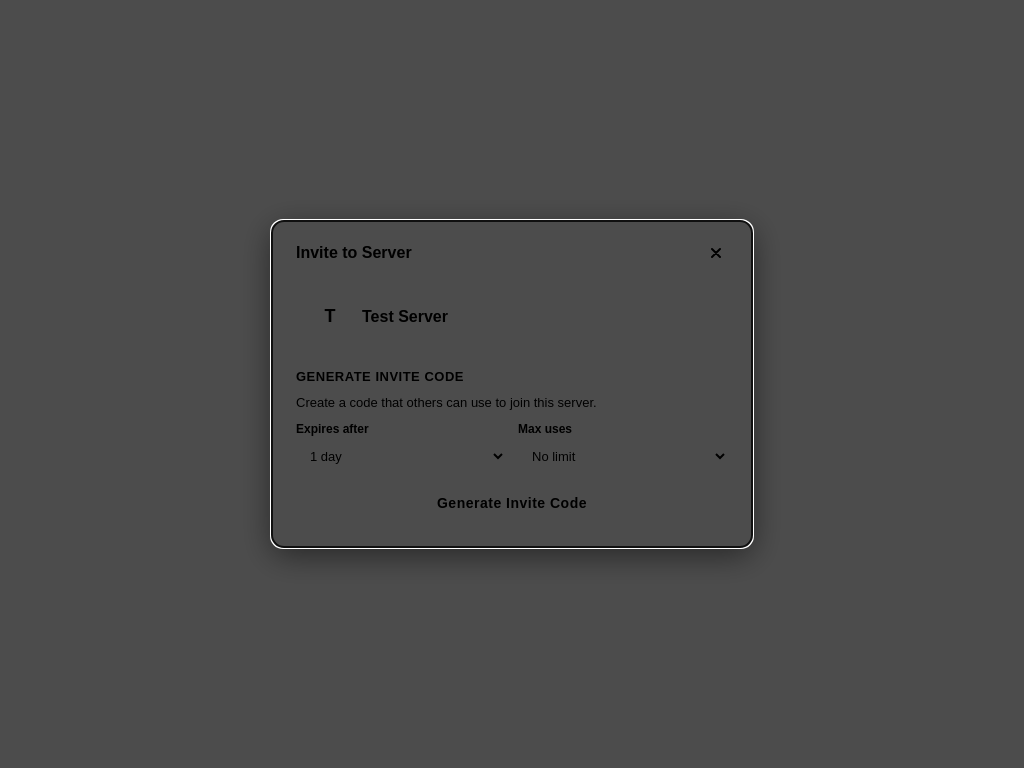
Test: InviteToServerModal › shows "Copied!" after auto-copy
This screenshot has width=1024, height=768.
Click the button with class "invite-generate-btn": (512, 503) [296,483,728,523]
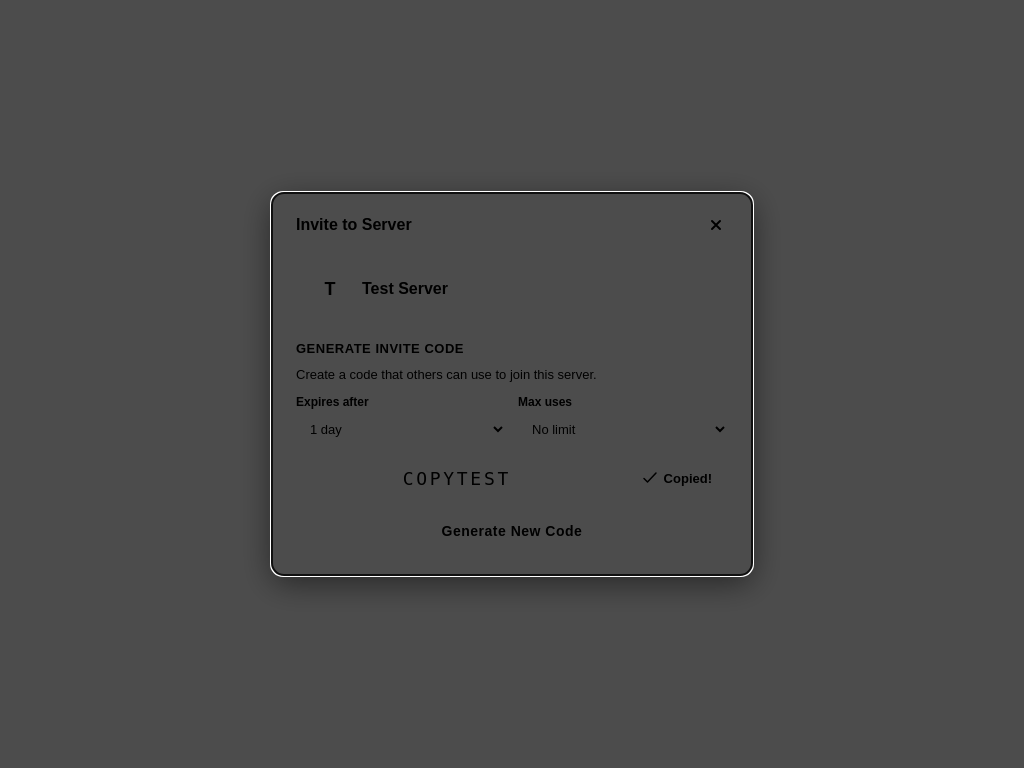
Expected: the button "Copied!" is shown, [626,458,728,498]
